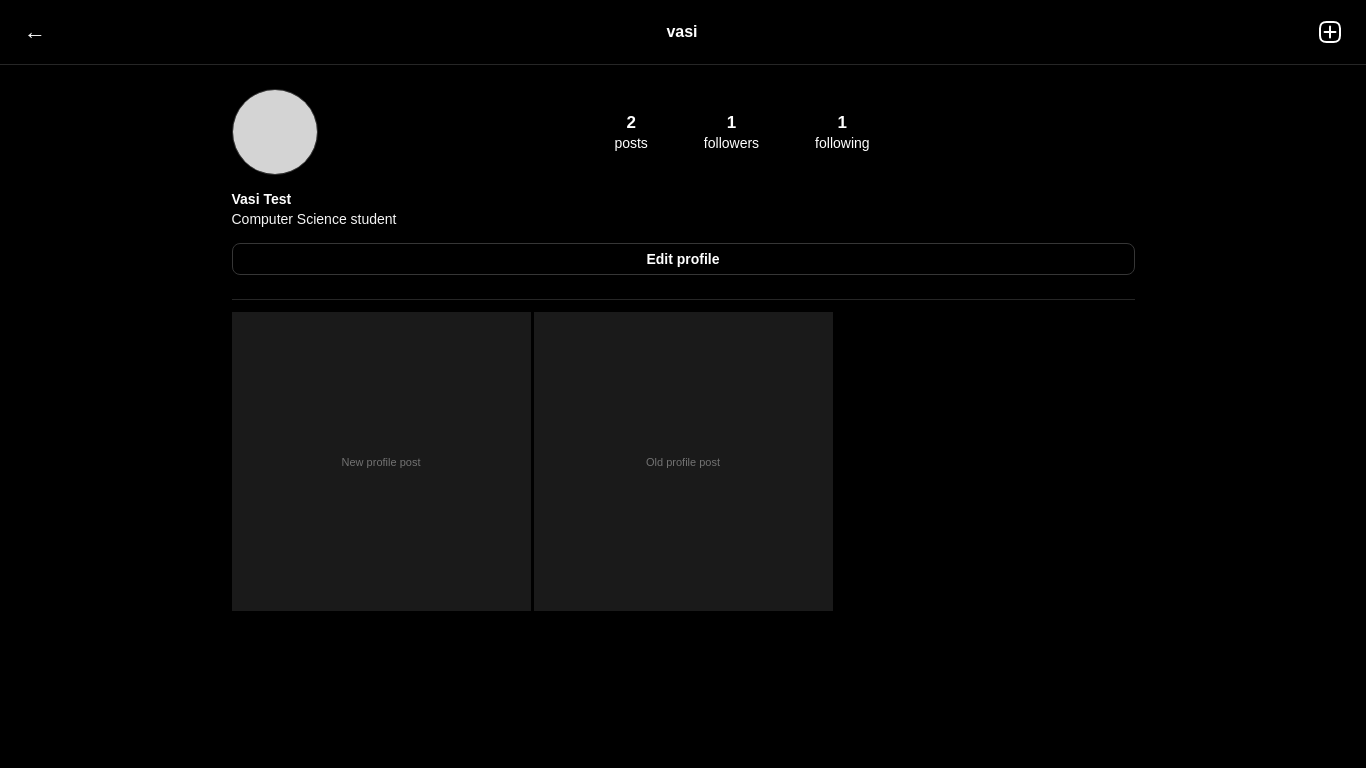
Scenario: ProfilePage › opens the edit profile modal
The image size is (1366, 768).
Click the button "Edit profile" at (683, 259), box [232, 243, 1134, 275]
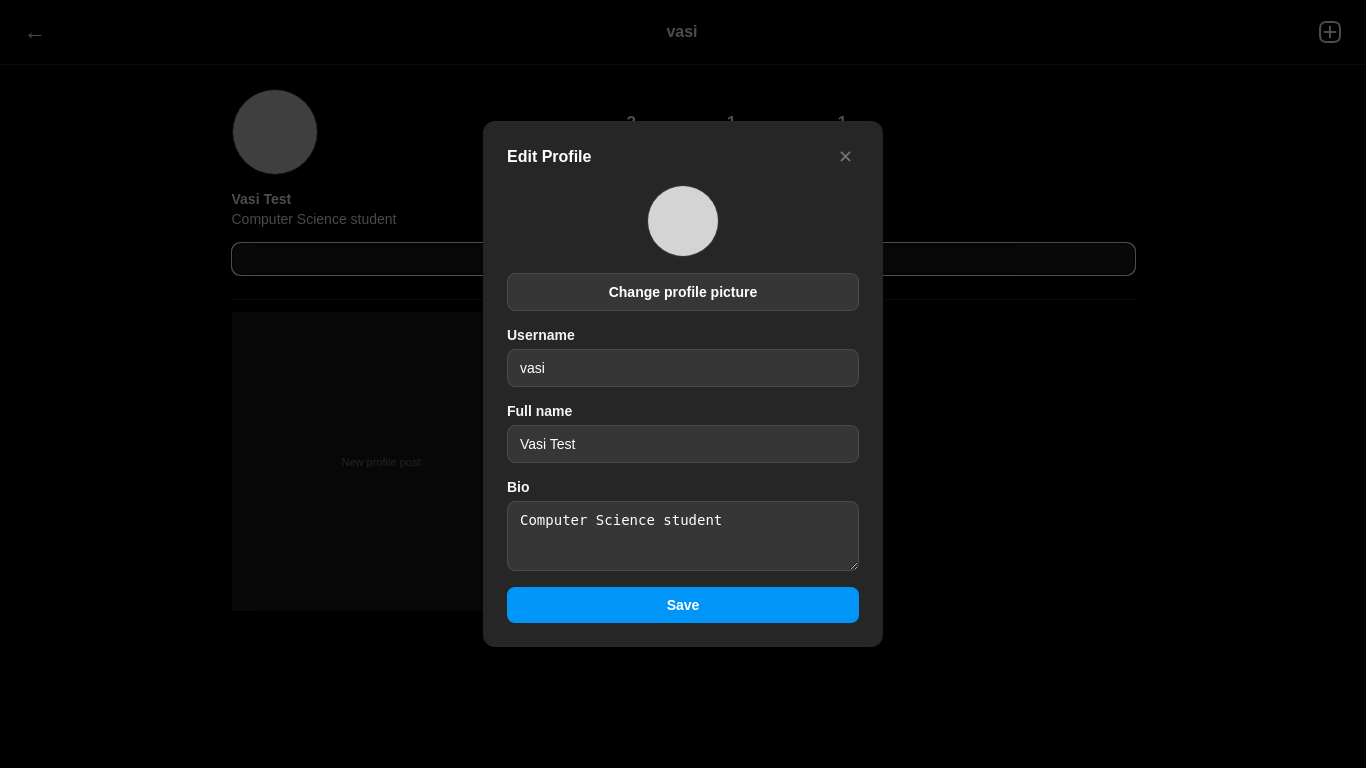
Result: the field showing "vasi" below "Username" is shown at [507, 349, 859, 387]
Result: the field showing "Vasi Test" below "Full name" is shown at [507, 425, 859, 463]
Result: the text box showing "Computer Science student" is shown at [507, 501, 859, 571]
